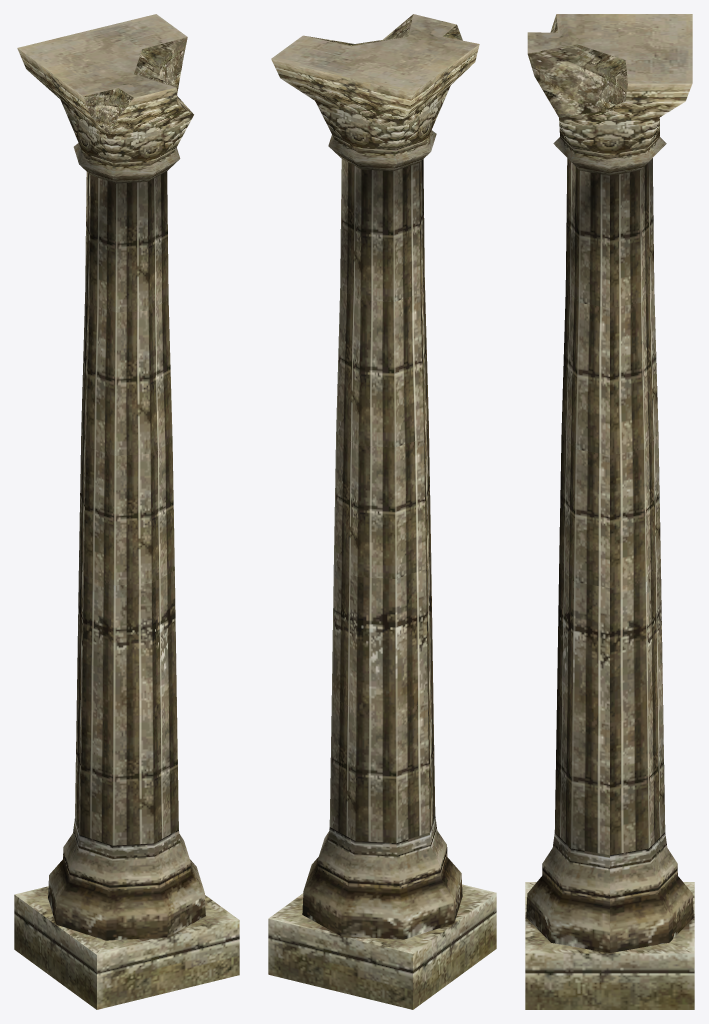
The model's file is OZ_26_mi_column02F.glb.
The picture shows the model from 3 angles, left to right: view 1: azimuth 30°, elevation 25°; view 2: azimuth 150°, elevation 25°; view 3: azimuth 270°, elevation 25°; orthographic projection. The views are drawn at different scales.
Visible parts, largest first — view 1: OM_26_mi_column02F; view 2: OM_26_mi_column02F; view 3: OM_26_mi_column02F.
Part boxes in pixels (x1=…): OM_26_mi_column02F: x1=14, y1=14, x2=239, y2=1009; OM_26_mi_column02F: x1=268, y1=14, x2=496, y2=1009; OM_26_mi_column02F: x1=525, y1=14, x2=694, y2=1009.
Bounding box in the file's own units: 2.1 × 12.69 × 2.1.
2 materials, 2 textured.
